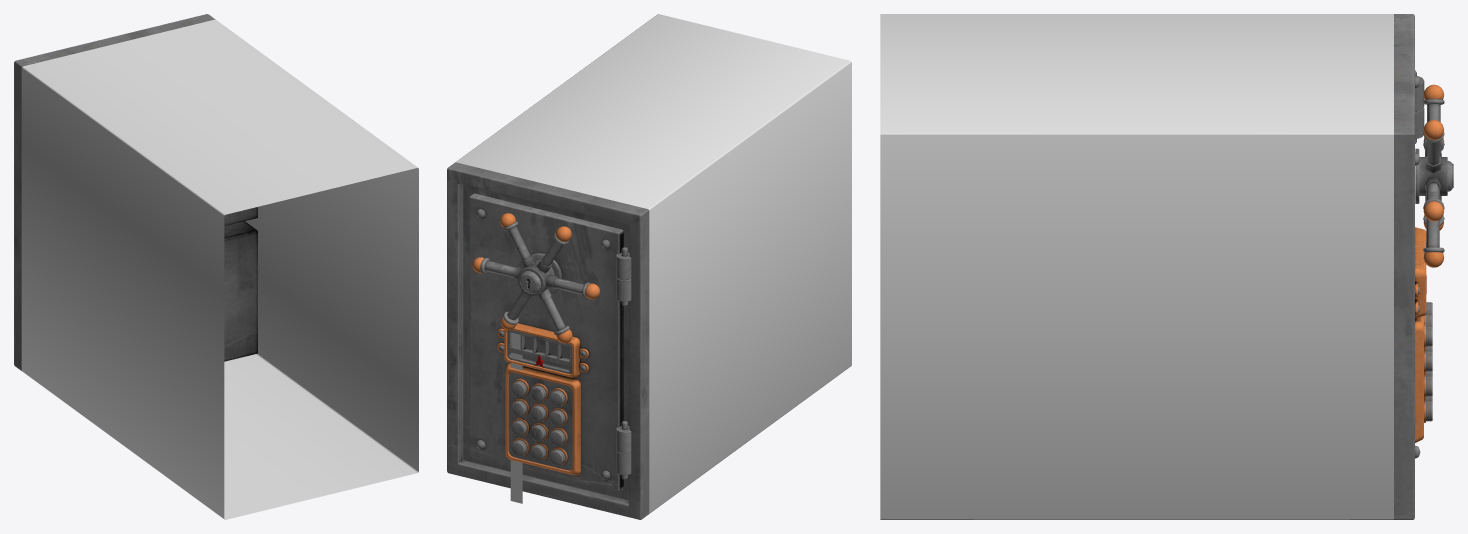
The model's file is Safe_Updated.fbx.
The picture shows the model from 3 angles, left to right: view 1: azimuth 30°, elevation 25°; view 2: azimuth 150°, elevation 25°; view 3: azimuth 270°, elevation 25°; orthographic projection. The views are drawn at different scales.
Visible parts, largest first — view 1: Occluder, SafeBody; view 2: Occluder, SafeDoor, SafeBody, SafeHandle, Number Strip; view 3: Occluder, SafeBody, SafeHandle, SafeDoor.
Part boxes in pixels (bbox=[...]): Occluder: bbox=[21, 19, 418, 519]; SafeBody: bbox=[14, 14, 257, 370]; Occluder: bbox=[456, 14, 851, 513]; SafeDoor: bbox=[469, 193, 631, 491]; SafeBody: bbox=[447, 162, 649, 519]; SafeHandle: bbox=[472, 213, 599, 343]; Number Strip: bbox=[510, 332, 522, 503]; Occluder: bbox=[880, 14, 1393, 519]; SafeBody: bbox=[1394, 14, 1414, 519]; SafeHandle: bbox=[1419, 84, 1447, 267]; SafeDoor: bbox=[1415, 75, 1432, 458].
Bounding box in the file's own units: 32.62 × 50.41 × 65.71.
